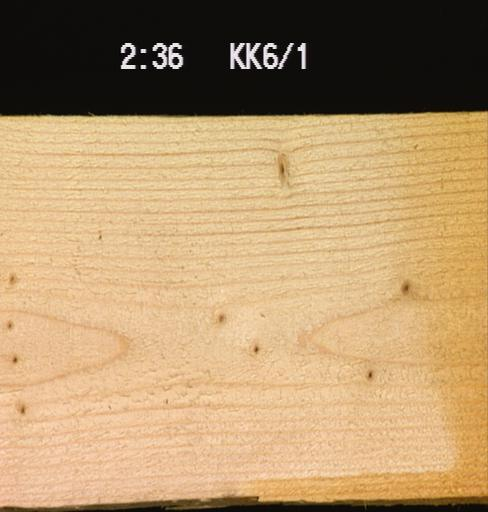small_knot: (387, 267, 425, 297), (269, 148, 296, 186), (0, 262, 25, 293), (0, 345, 30, 367), (357, 363, 382, 384), (248, 334, 268, 358), (14, 396, 35, 416), (211, 309, 233, 327), (0, 317, 18, 334)
wave: (156, 463, 483, 505)
